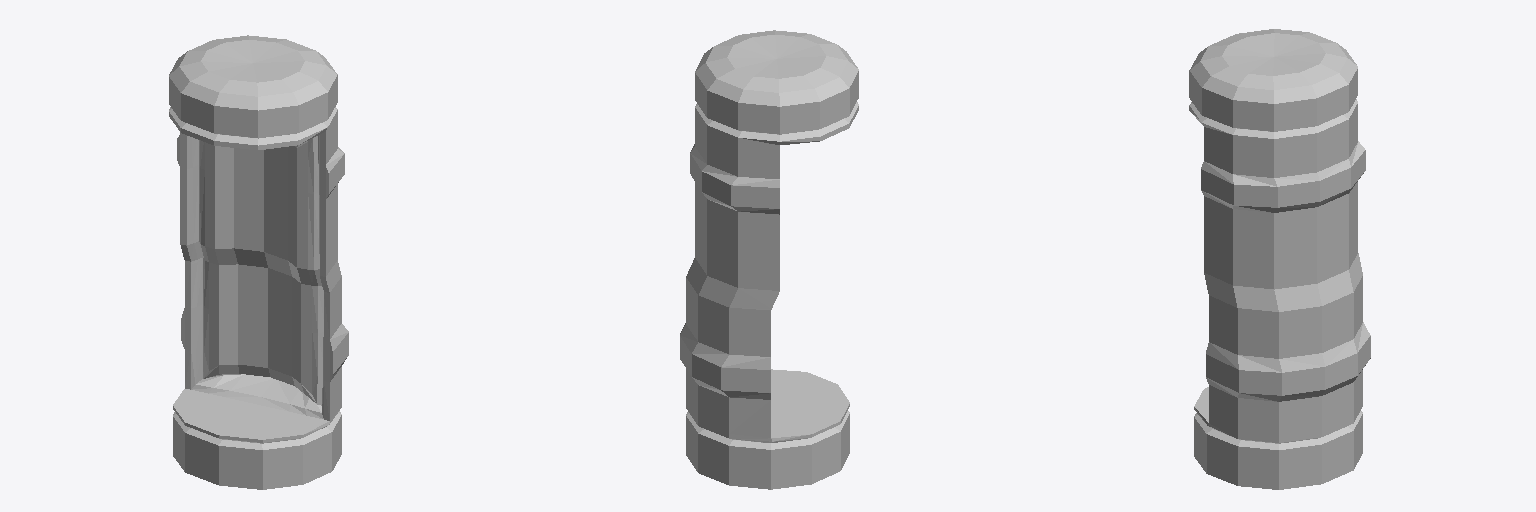
Rendered from Medbay_CryostasisChamber.obj.
The picture shows the model from 3 angles: view 1: azimuth 30°, elevation 25°; view 2: azimuth 150°, elevation 25°; view 3: azimuth 270°, elevation 25°; orthographic projection.
Parts seen in each view (by area): view 1: default; view 2: default; view 3: default.
Part boxes in pixels (bbox=[...]): default: bbox=[169, 35, 348, 489]; default: bbox=[680, 30, 858, 489]; default: bbox=[1189, 29, 1370, 489].
Size of the model in its own units: 8.64 by 20.92 by 8.65.